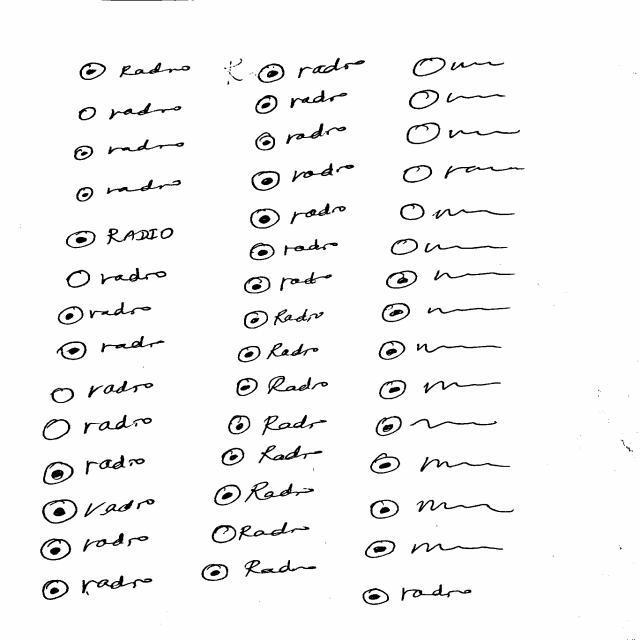radio: (402, 122, 445, 149), (42, 461, 80, 490), (367, 452, 405, 480), (39, 538, 78, 564), (42, 500, 80, 526), (411, 55, 448, 81), (249, 167, 283, 195), (378, 376, 410, 404), (357, 585, 392, 610), (374, 415, 407, 440), (41, 420, 76, 443), (363, 537, 398, 560), (366, 500, 404, 521), (38, 580, 74, 602), (391, 235, 422, 260), (248, 209, 283, 231), (76, 60, 109, 83), (57, 340, 90, 363), (56, 305, 90, 327), (407, 90, 441, 112), (213, 484, 244, 508), (383, 302, 411, 328), (388, 270, 419, 293), (379, 341, 408, 365), (403, 165, 434, 187), (210, 524, 239, 547), (64, 231, 99, 250), (199, 564, 234, 583), (73, 138, 98, 164), (242, 276, 274, 296), (258, 63, 287, 84), (398, 204, 428, 224), (226, 415, 254, 436), (255, 95, 282, 116), (244, 310, 271, 331), (221, 447, 248, 468), (66, 271, 95, 290), (248, 244, 277, 263), (76, 102, 102, 123), (237, 344, 263, 365), (49, 388, 81, 405), (236, 378, 262, 398), (255, 133, 279, 152), (76, 186, 99, 204)
